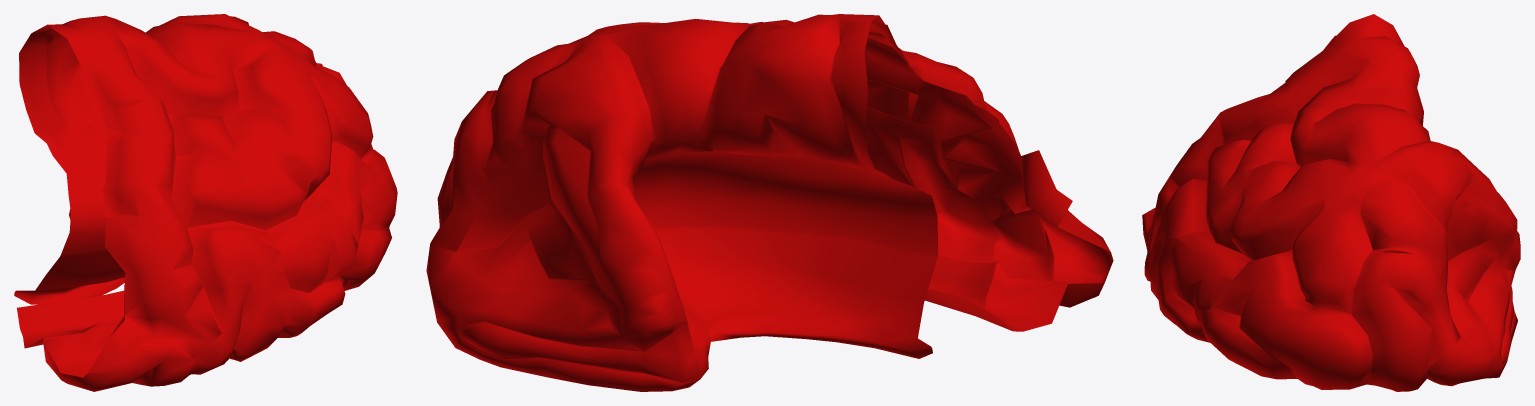
Rendered from region_13.obj.
3 renders of one model, left to right at view 1: azimuth 30°, elevation 25°; view 2: azimuth 150°, elevation 25°; view 3: azimuth 270°, elevation 25°, orthographic. The views are drawn at different scales.
Parts seen in each view (by area): view 1: ID113; view 2: ID113; view 3: ID113.
Part boxes in pixels (left/top/right/bottom): ID113: left=14, top=14, right=397, bottom=391; ID113: left=426, top=14, right=1113, bottom=391; ID113: left=1142, top=14, right=1520, bottom=391.
Size of the model in its own units: 120 by 76.16 by 104.
